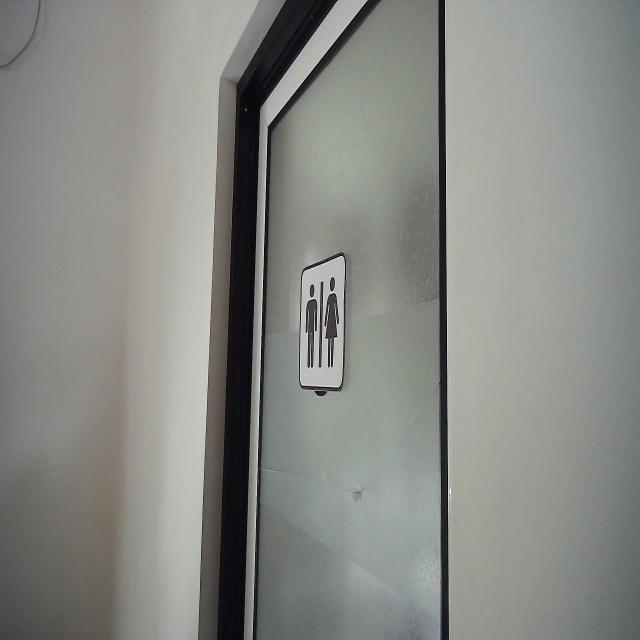restroom: (296, 249, 348, 396)
